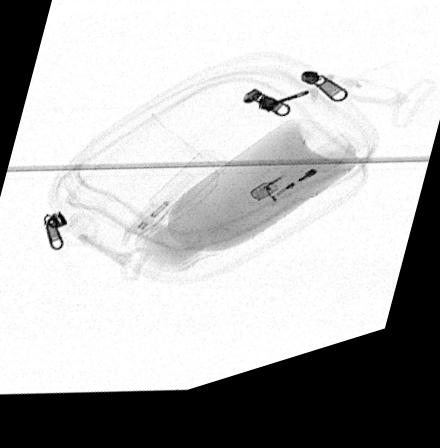Lighter: (247, 153, 359, 221)
